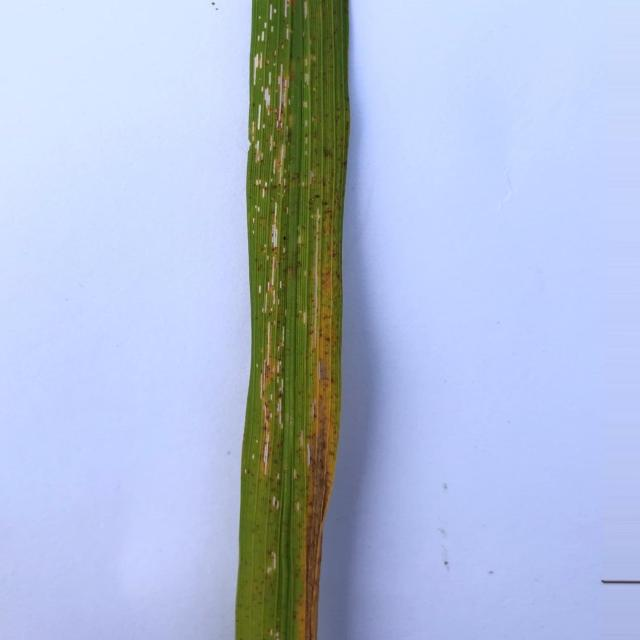Rice Tungro: (235, 0, 350, 640)
